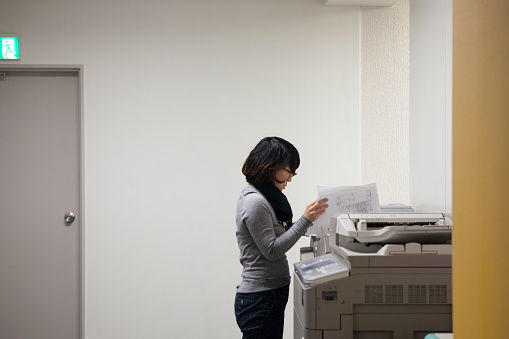em pe: (221, 140, 319, 339)
